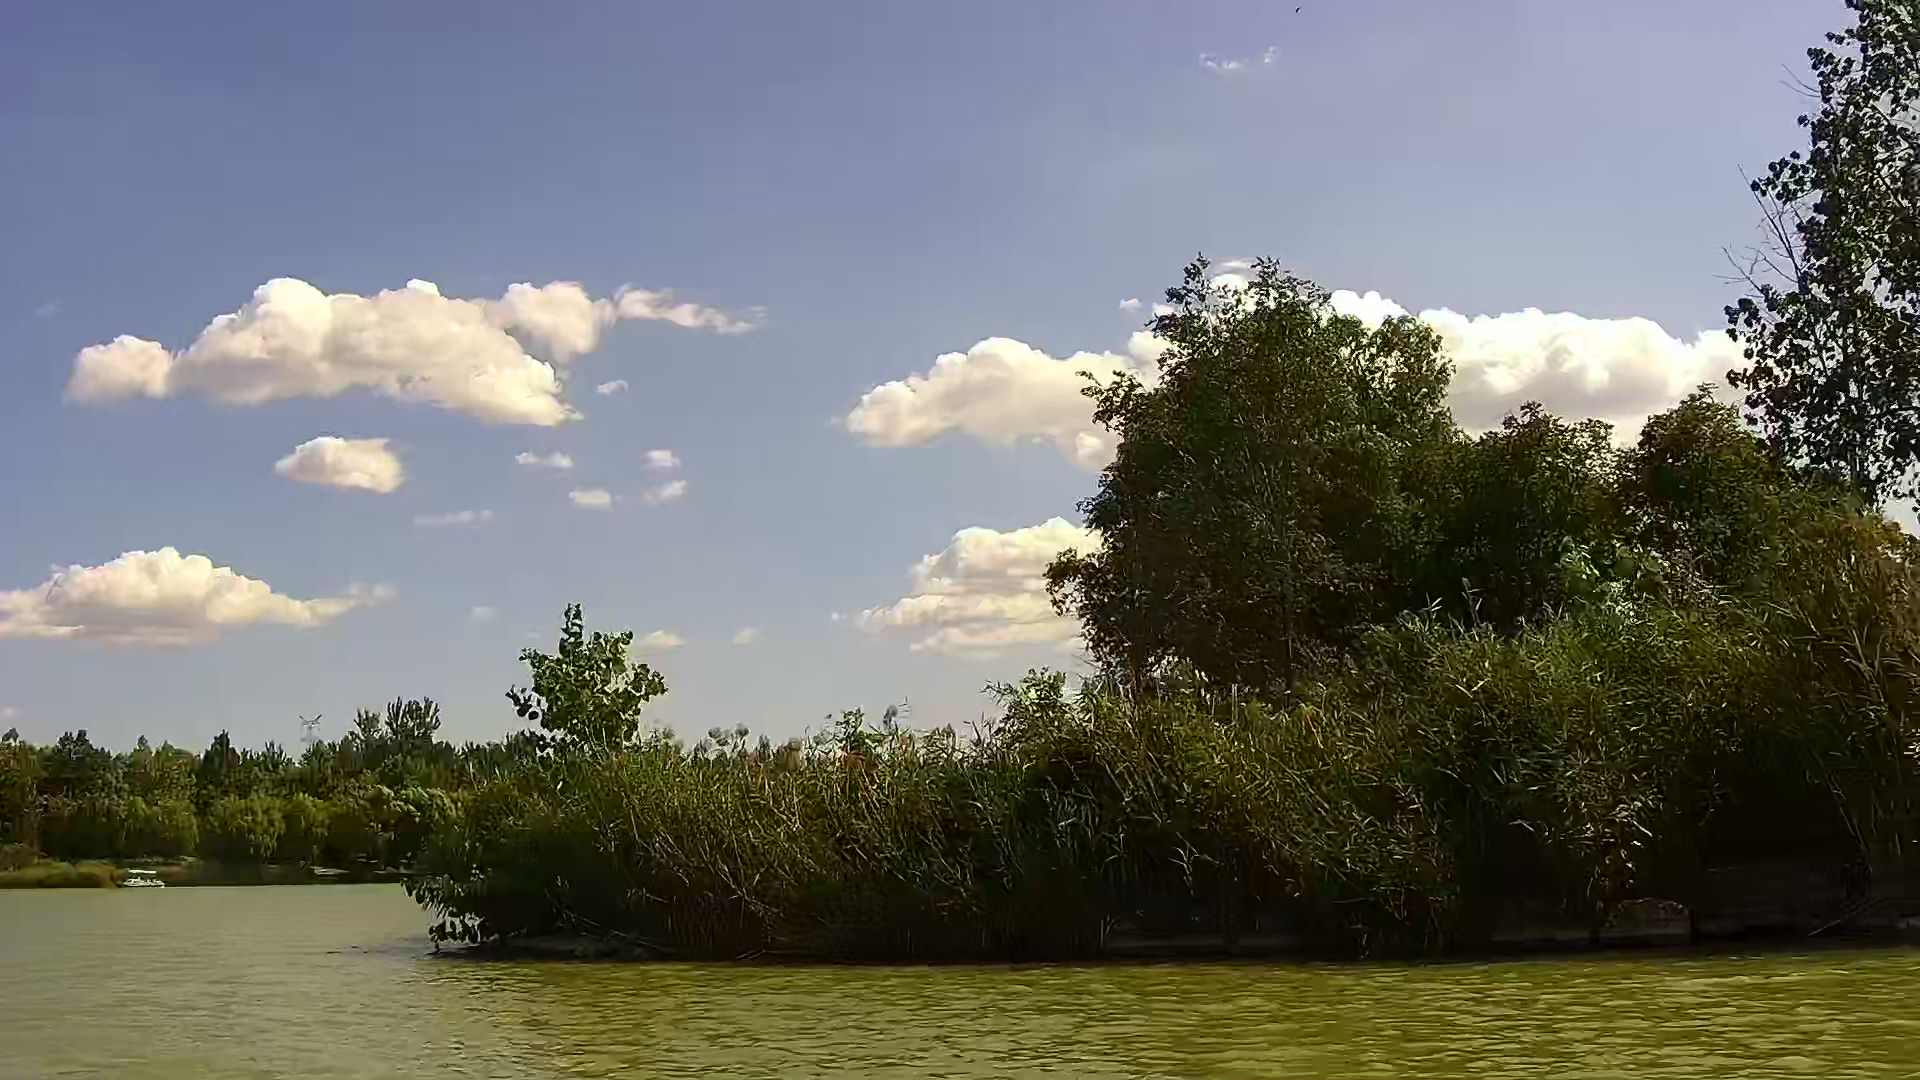boat: (115, 866, 166, 887)
